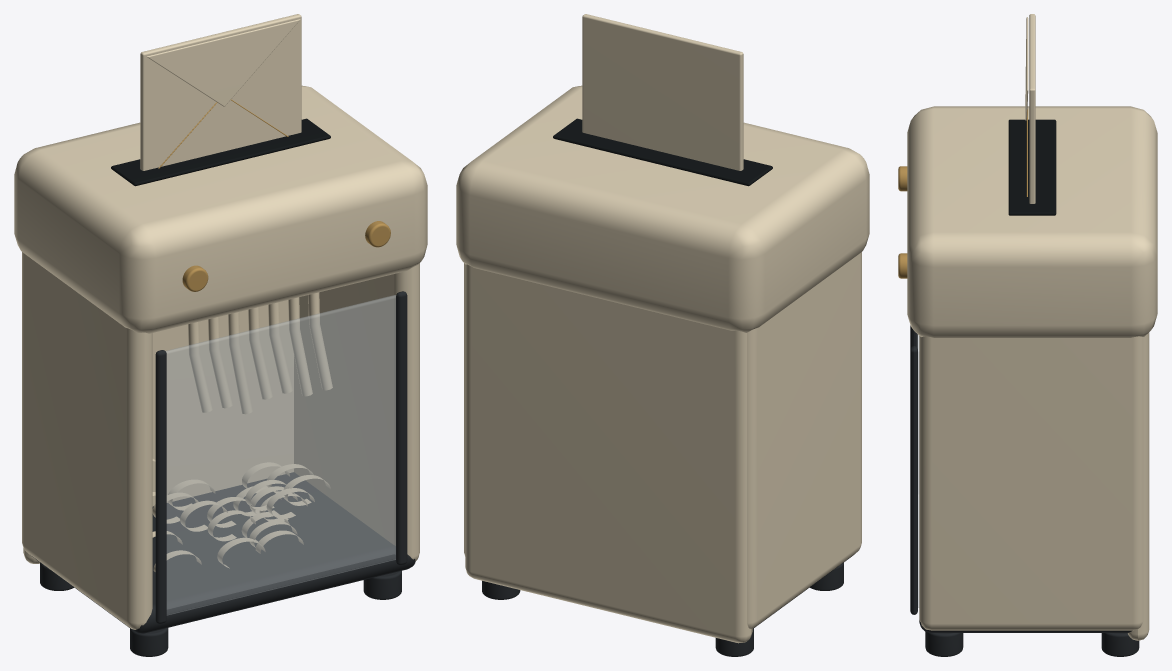
The model's file is escritorio_fragmentadora.glb.
The picture shows the model from 3 angles, left to right: view 1: azimuth 30°, elevation 25°; view 2: azimuth 150°, elevation 25°; view 3: azimuth 270°, elevation 25°; orthographic projection. The views are drawn at different scales.
Visible parts, largest first — view 1: fragmentadora; view 2: fragmentadora; view 3: fragmentadora.
Boxes of the visible parts, bbox=[...] form: fragmentadora: bbox=[14, 14, 427, 656]; fragmentadora: bbox=[456, 14, 869, 656]; fragmentadora: bbox=[898, 14, 1157, 656].
Size of the model in its own units: 0.274 by 0.476 by 0.206.
